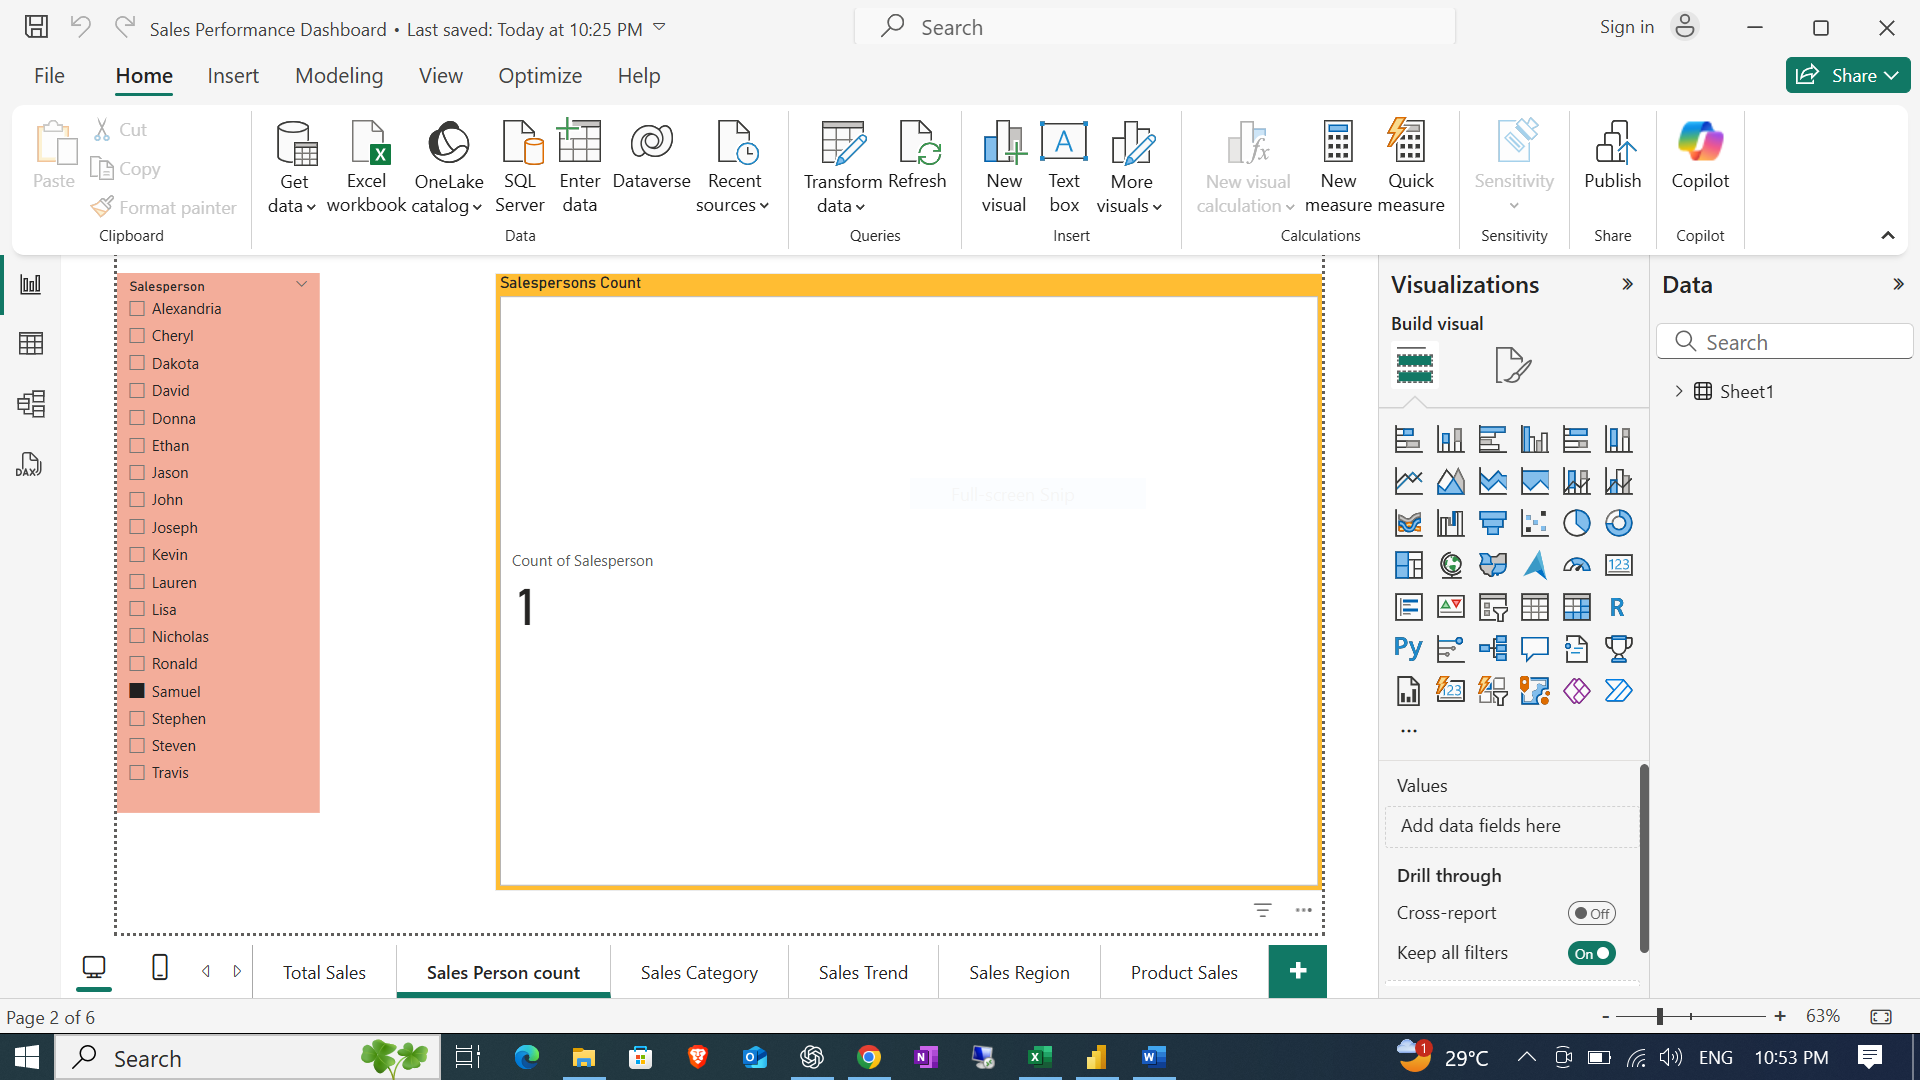

This screenshot's page, from the dashboard's own definition file:
{"tool":"powerbi","page":{"name":"Sales Person count","canvas":[1280,720],"ordinal":1},"visuals":[{"type":"cardVisual","title":"Salespersons Count","fields":{"Data":["Count(Sheet1.Salesperson)"]},"box":[401.4,19.1,879.3,656.3],"z":0},{"type":"slicer","fields":{"Values":["Sheet1.Salesperson"]},"box":[0,19.1,215,573.5],"z":1000}]}

Visuals, with their boxes on the page's 1280x720 design canvas (x1, y1, x2, y2). These are canvas units, not pixel positions in the 1920x1080 screenshot, which may show the page scaled, cropped or inside an application window:
"Salespersons Count" cardVisual: box(401, 19, 1281, 675)
slicer - Sheet1.Salesperson: box(0, 19, 215, 593)
